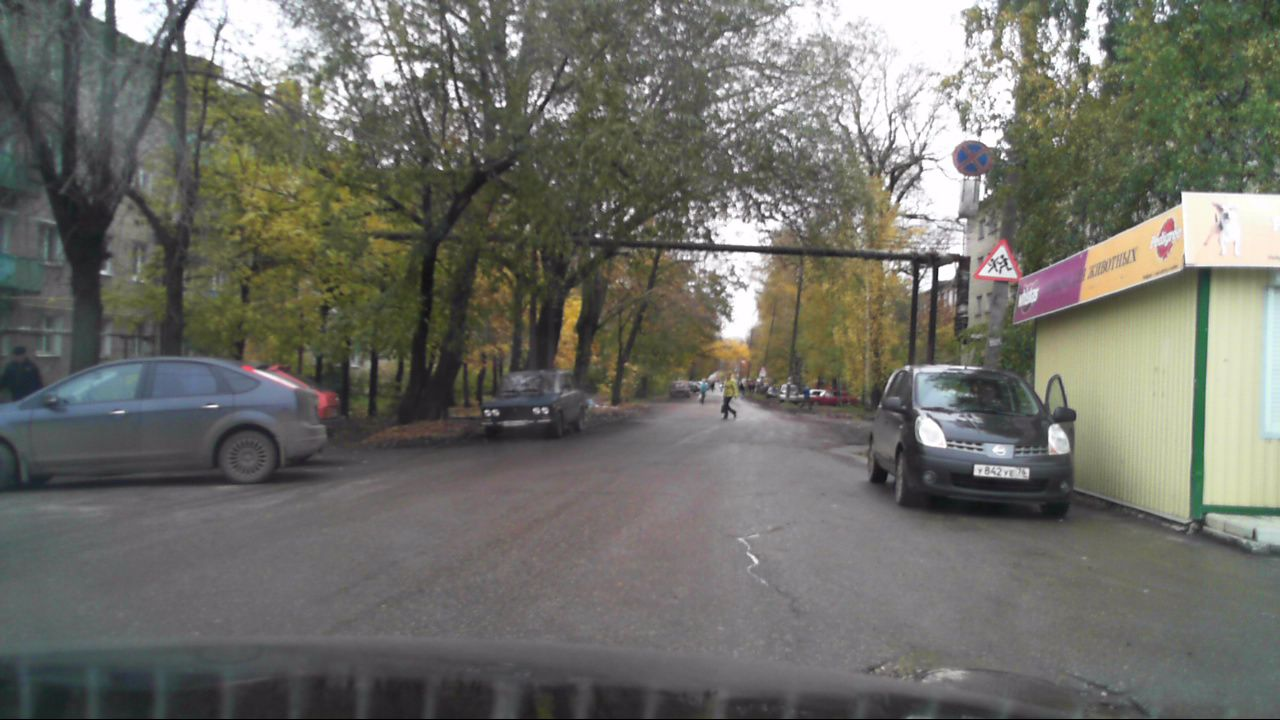No Parking: (951, 140, 991, 178)
